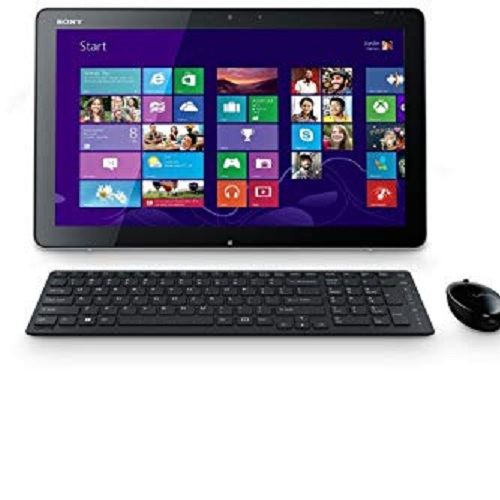Teclado: (25, 268, 437, 342)
